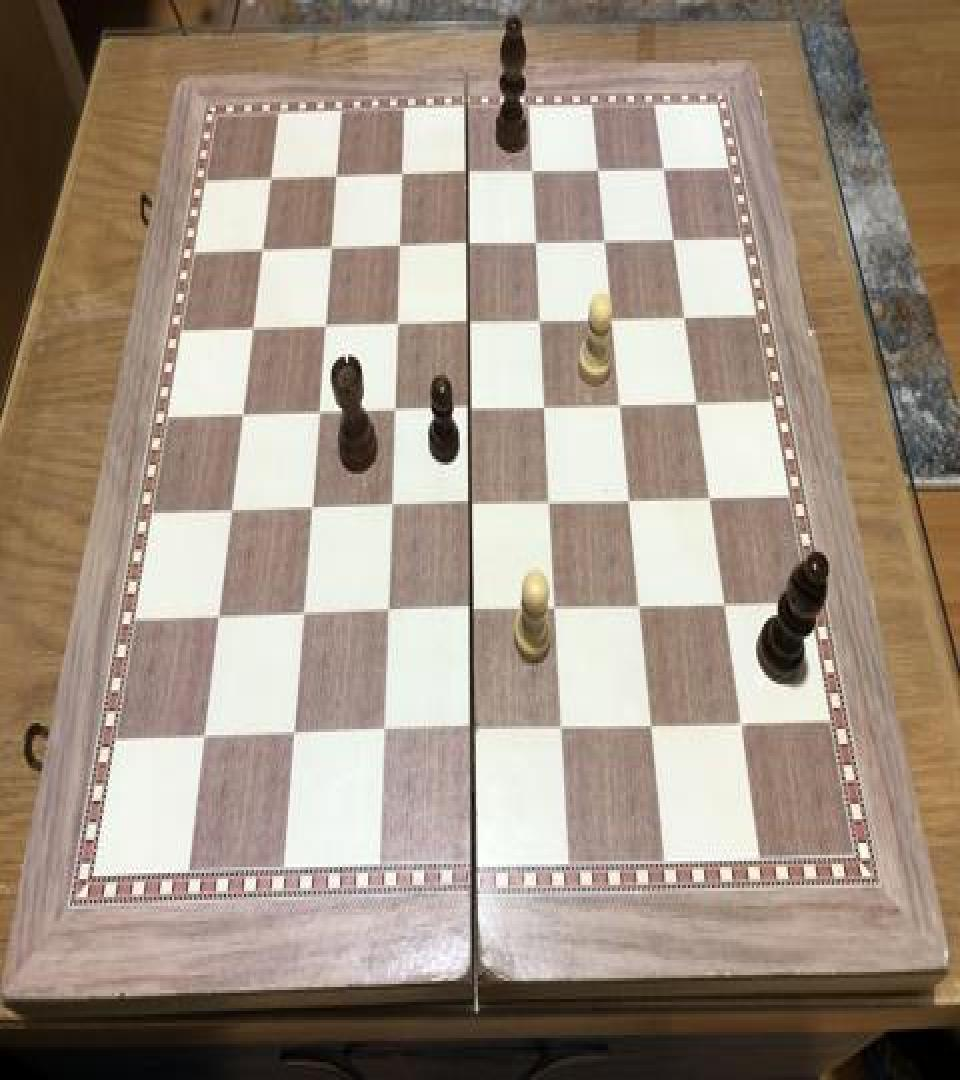xcorner: (463, 595, 487, 632), (375, 718, 399, 755), (654, 152, 678, 188), (588, 153, 612, 189), (523, 154, 547, 190), (457, 156, 481, 192), (391, 158, 415, 194), (324, 159, 348, 195), (258, 160, 282, 196), (664, 224, 688, 260), (596, 225, 620, 261), (527, 226, 551, 262), (458, 228, 482, 264), (388, 230, 412, 266), (319, 231, 343, 267), (250, 232, 274, 268), (676, 302, 700, 338), (603, 303, 627, 339), (531, 304, 555, 340), (459, 308, 483, 344), (386, 309, 410, 345), (314, 310, 338, 346), (241, 312, 265, 348), (688, 388, 712, 424), (612, 390, 636, 426), (536, 392, 560, 428), (460, 393, 484, 429), (384, 394, 408, 430), (308, 398, 332, 434), (231, 399, 255, 435), (701, 483, 725, 519), (621, 486, 645, 522), (541, 488, 565, 524), (461, 489, 485, 525), (381, 492, 405, 528), (301, 494, 325, 530), (220, 495, 244, 531), (716, 590, 740, 626), (632, 591, 656, 627), (548, 594, 572, 630), (378, 598, 402, 634), (293, 600, 317, 636), (208, 603, 232, 639), (733, 708, 757, 744), (644, 711, 668, 747), (554, 714, 578, 750), (465, 716, 489, 752), (285, 720, 309, 756), (194, 723, 218, 759)
